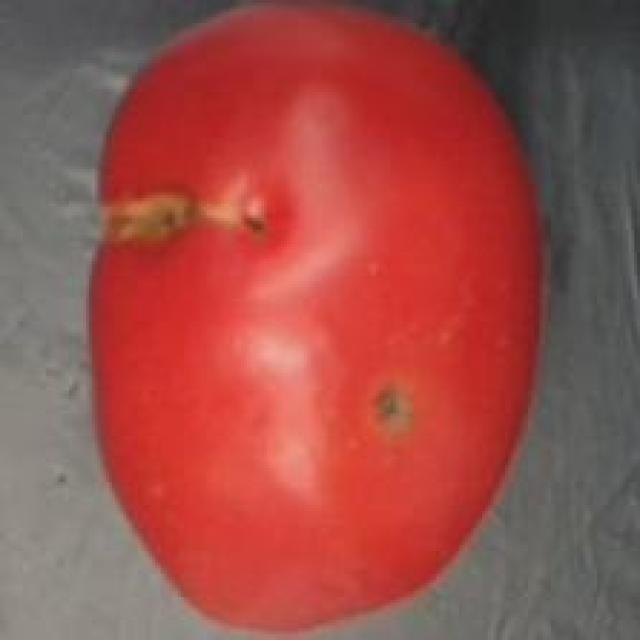overripe tomato: (78, 0, 551, 640)
